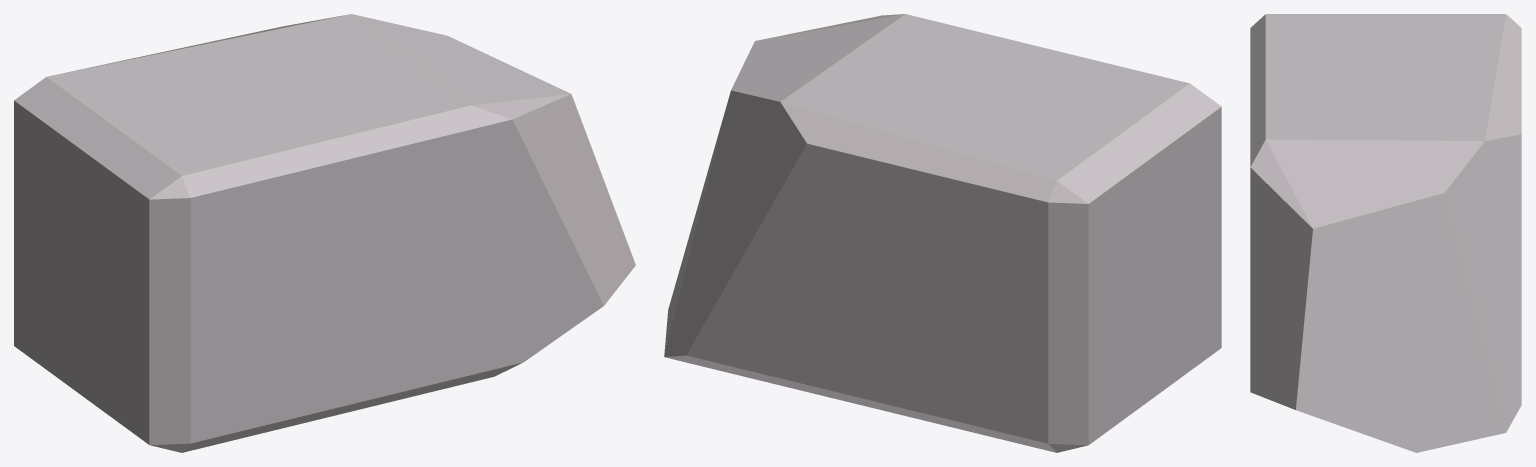
File: Rock_Block_m_11.fbx
3 views of the same model, side by side, from view 1: azimuth 30°, elevation 25°; view 2: azimuth 150°, elevation 25°; view 3: azimuth 270°, elevation 25° (orthographic). The views are drawn at different scales.
Visible parts, largest first — view 1: Rock_Block_m_11; view 2: Rock_Block_m_11; view 3: Rock_Block_m_11.
Part boxes in pixels (x1,y1,x2,y2): Rock_Block_m_11: (14, 14, 635, 452); Rock_Block_m_11: (664, 14, 1221, 452); Rock_Block_m_11: (1250, 14, 1521, 452).
Size of the model in its own units: 120 by 63 by 63.
